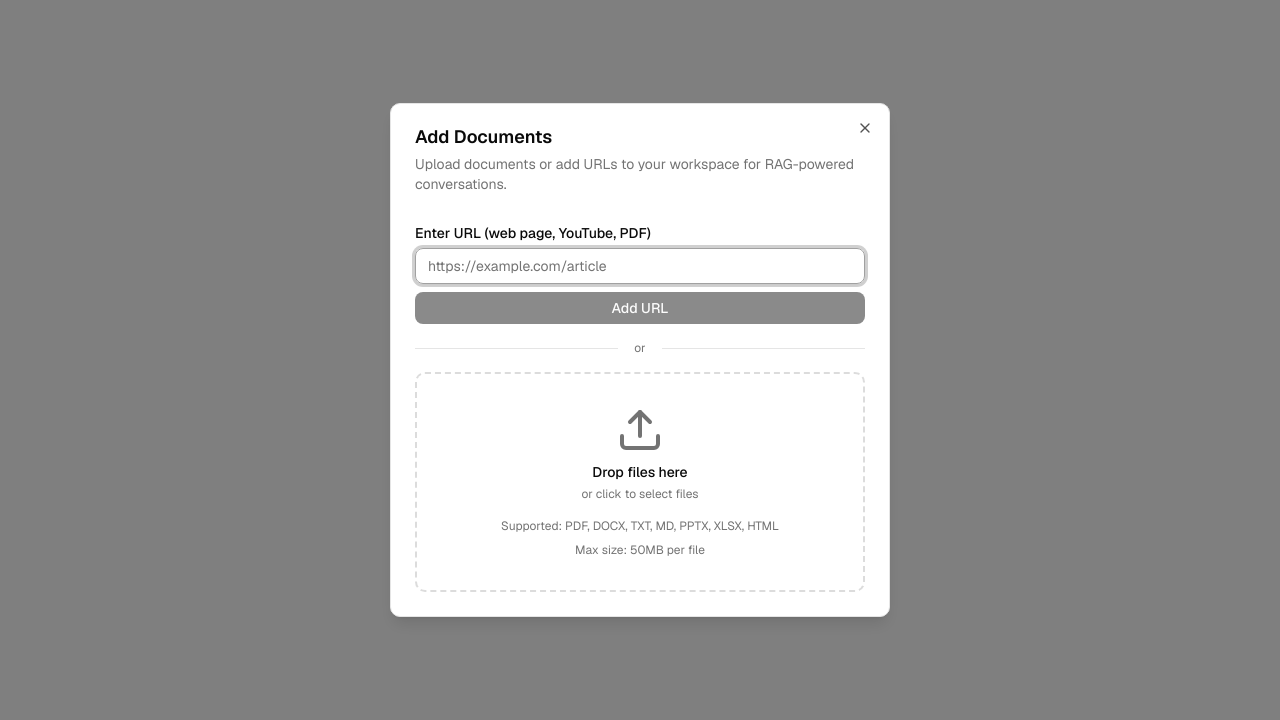
UploadModal › shows PDF icon for PDF URLs
Type "https://example.com/doc.pdf" into the field with test id "url-input" at [640, 266], box [415, 248, 865, 284]
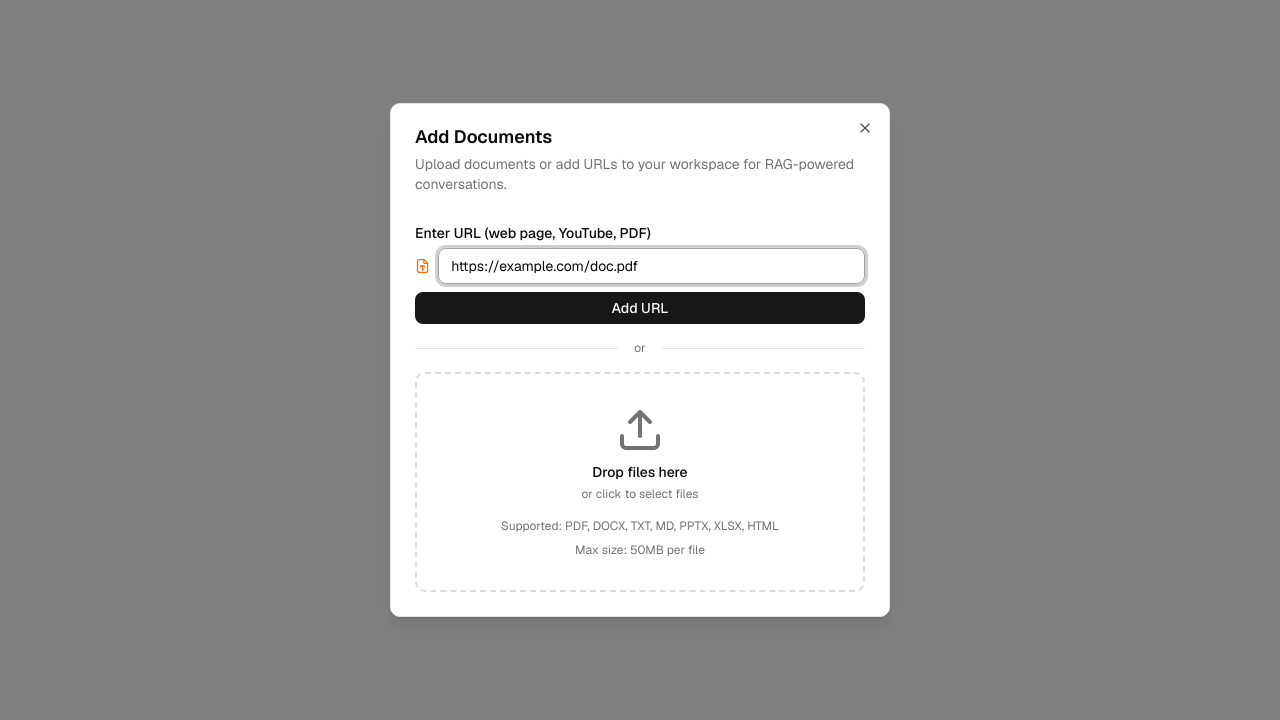
expect the icon with test id "url-type-icon-pdf" is shown: met, box [415, 258, 430, 274]
